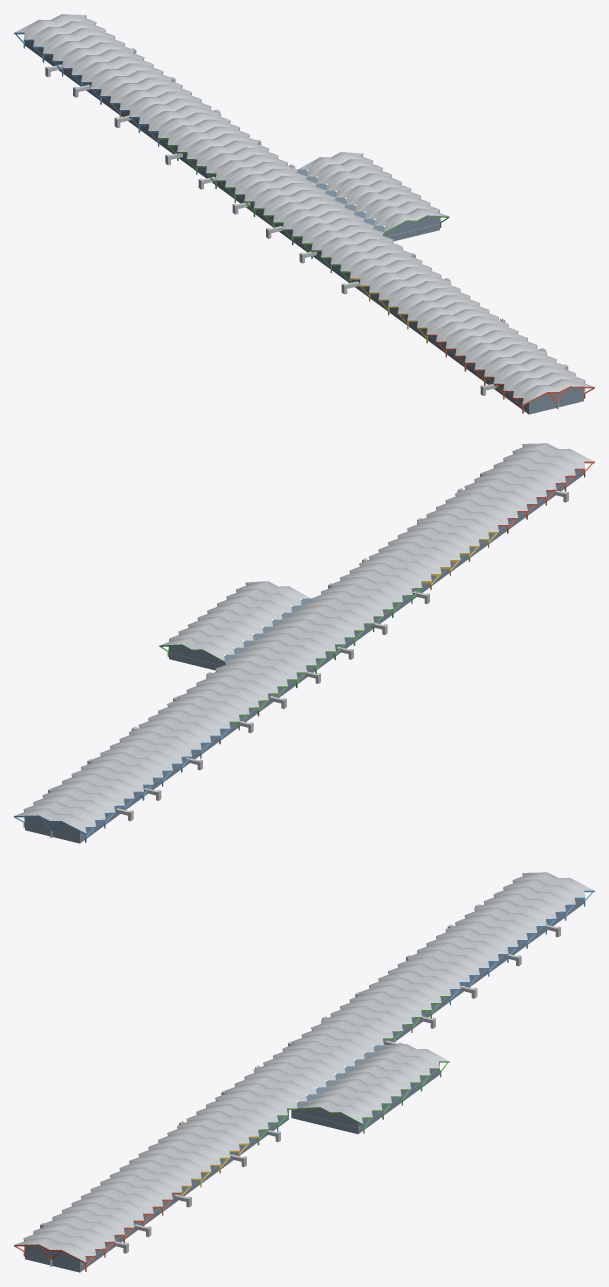
Rendered from madrid-barajas-terminal-4s.glb.
3 renders of one model, top to bottom at view 1: azimuth 30°, elevation 25°; view 2: azimuth 150°, elevation 25°; view 3: azimuth 330°, elevation 25°, orthographic.
Parts seen in each view (by area): view 1: Madrid-Barajas Terminal 4S; view 2: Madrid-Barajas Terminal 4S; view 3: Madrid-Barajas Terminal 4S.
Boxes of the visible parts, box(x1,y1,x2,y2) form: Madrid-Barajas Terminal 4S: box(14, 14, 594, 414); Madrid-Barajas Terminal 4S: box(14, 443, 594, 843); Madrid-Barajas Terminal 4S: box(14, 872, 594, 1272).
Bounding box in the file's own units: 156 × 23 × 953.
